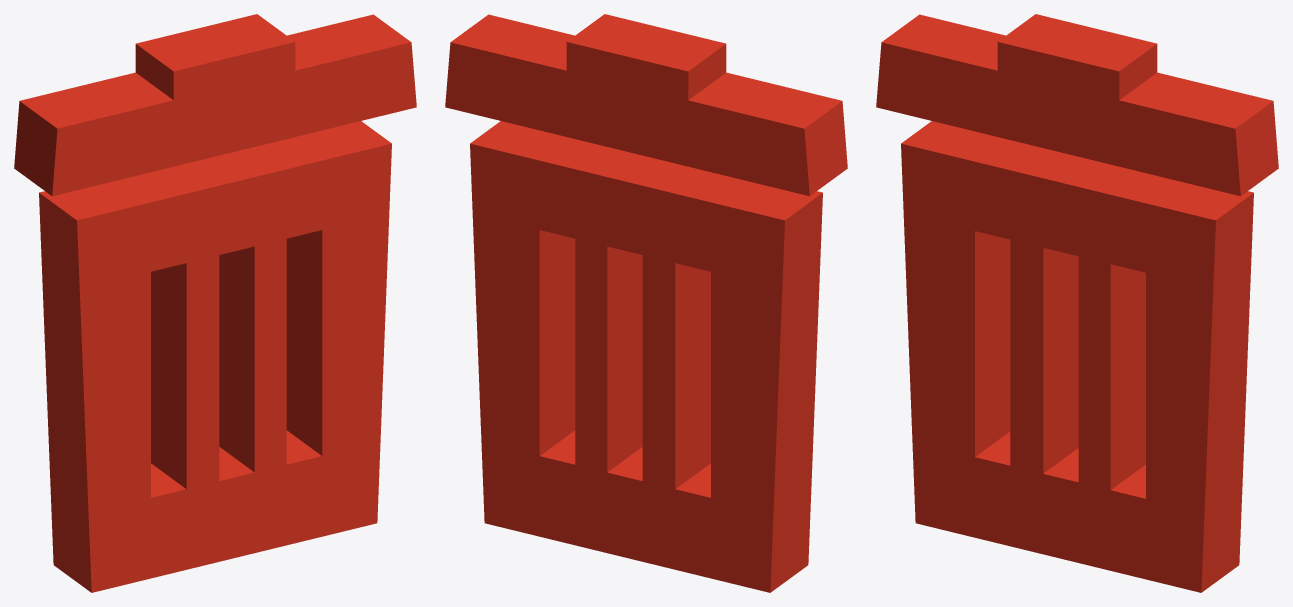
File: Icon_Rubbish_03.fbx
3 views of the same model, side by side, from view 1: azimuth 30°, elevation 25°; view 2: azimuth 150°, elevation 25°; view 3: azimuth 330°, elevation 25° (orthographic).
Visible parts, largest first — view 1: Icon_Rubbish_03; view 2: Icon_Rubbish_03; view 3: Icon_Rubbish_03.
Boxes of the visible parts, left/top/right/bottom form: Icon_Rubbish_03: left=14, top=14, right=416, bottom=592; Icon_Rubbish_03: left=445, top=14, right=847, bottom=592; Icon_Rubbish_03: left=876, top=14, right=1278, bottom=592.
Size of the model in its own units: 52.16 by 68.53 by 9.43.
